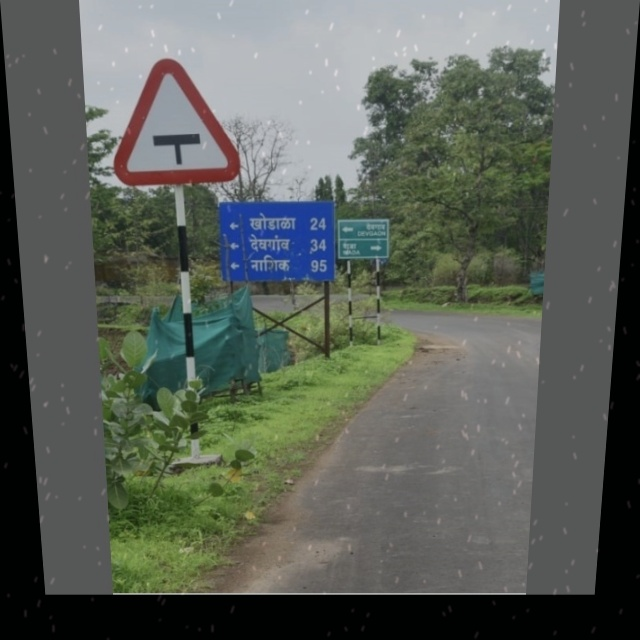T_Intersection: (107, 47, 248, 195)
